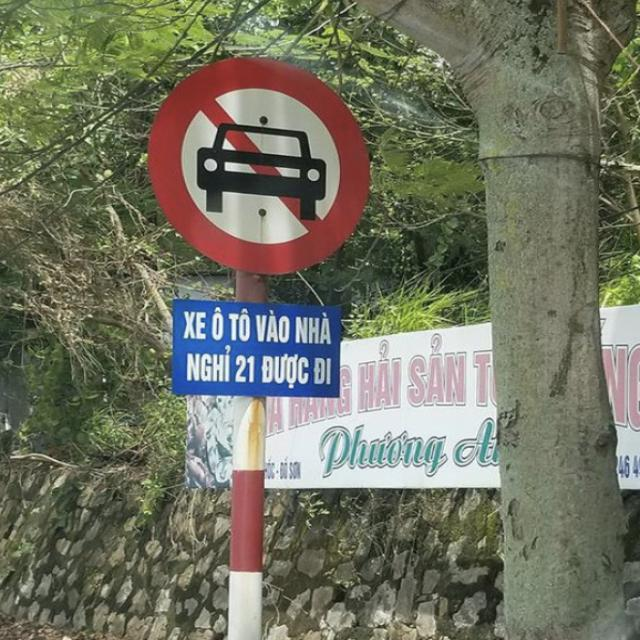103a-cam-oto: (148, 55, 372, 276)
